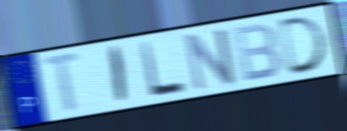B: (232, 21, 283, 85)
D: (277, 13, 331, 78)
I: (109, 44, 129, 107)
L: (138, 39, 189, 100)
N: (183, 26, 239, 95)
T: (40, 50, 85, 116)
